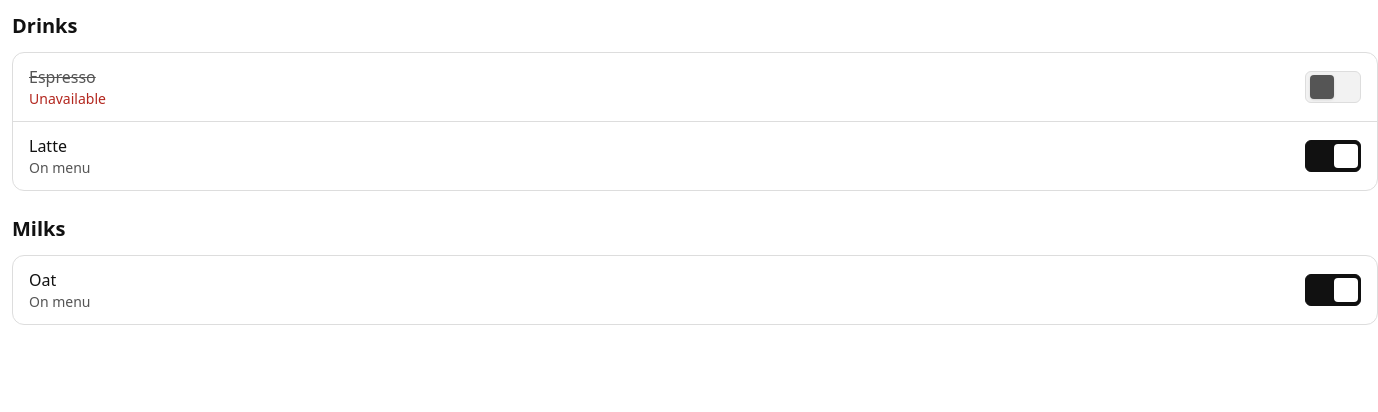
it: BaristaAvailability › reverts the toggle and shows an error when saving fails
Click the switch named "Latte" in the row of "Latte" at (1333, 156), box [1305,140,1361,172]
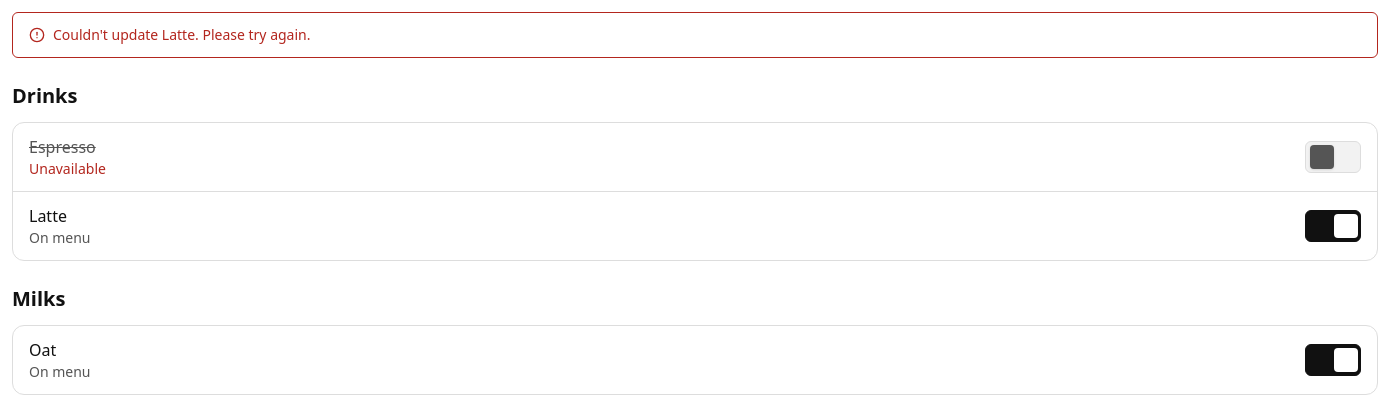
Check: the message reads "Couldn't update Latte. Please try again.", box [53,25,310,44]
